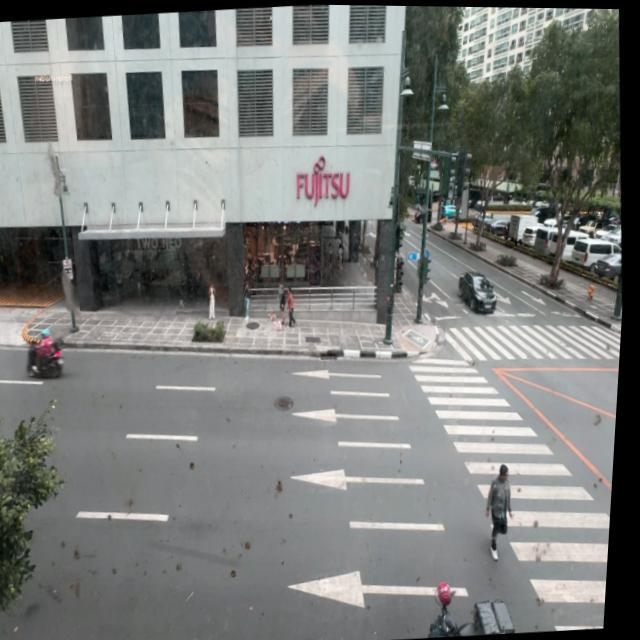jaywalking: (479, 464, 518, 560)
